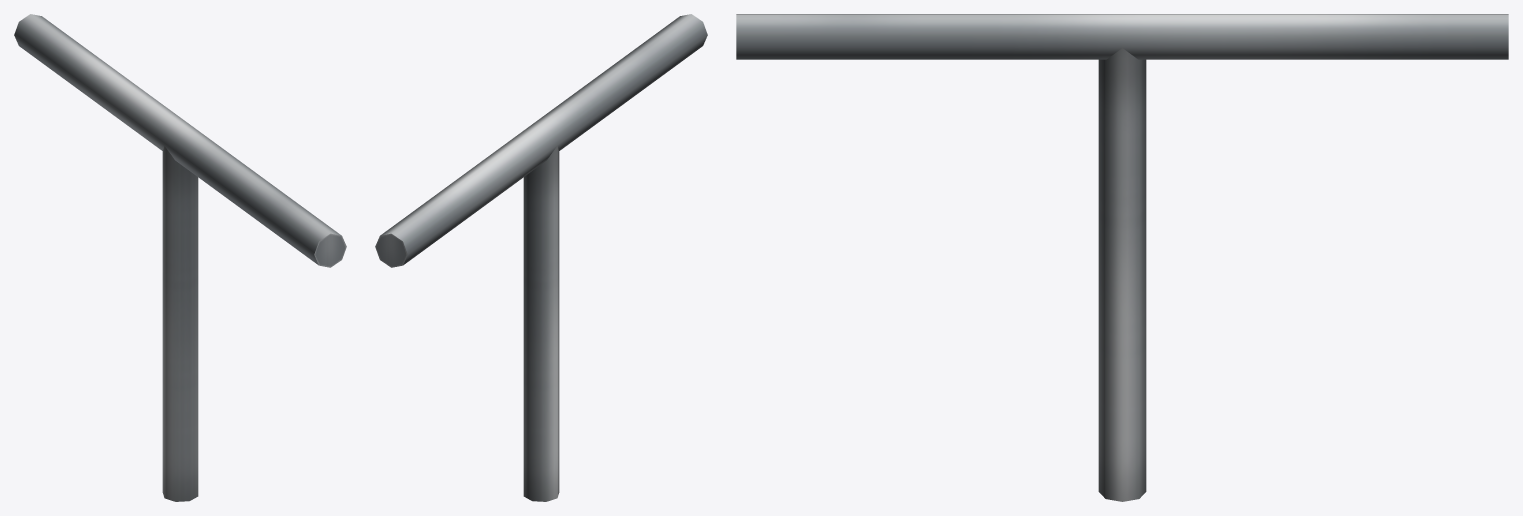
File: set_handrail_straight_03.fbx
3 renders of one model, left to right at view 1: azimuth 30°, elevation 25°; view 2: azimuth 150°, elevation 25°; view 3: azimuth 270°, elevation 25°, orthographic. The views are drawn at different scales.
Visible parts, largest first — view 1: set_handrail_straight_03; view 2: set_handrail_straight_03; view 3: set_handrail_straight_03.
Part boxes in pixels (<box>): set_handrail_straight_03: <box>14,14,346,501</box>; set_handrail_straight_03: <box>375,14,707,501</box>; set_handrail_straight_03: <box>736,14,1508,501</box>.
Bounding box in the file's own units: 6.29 × 68.15 × 100.
